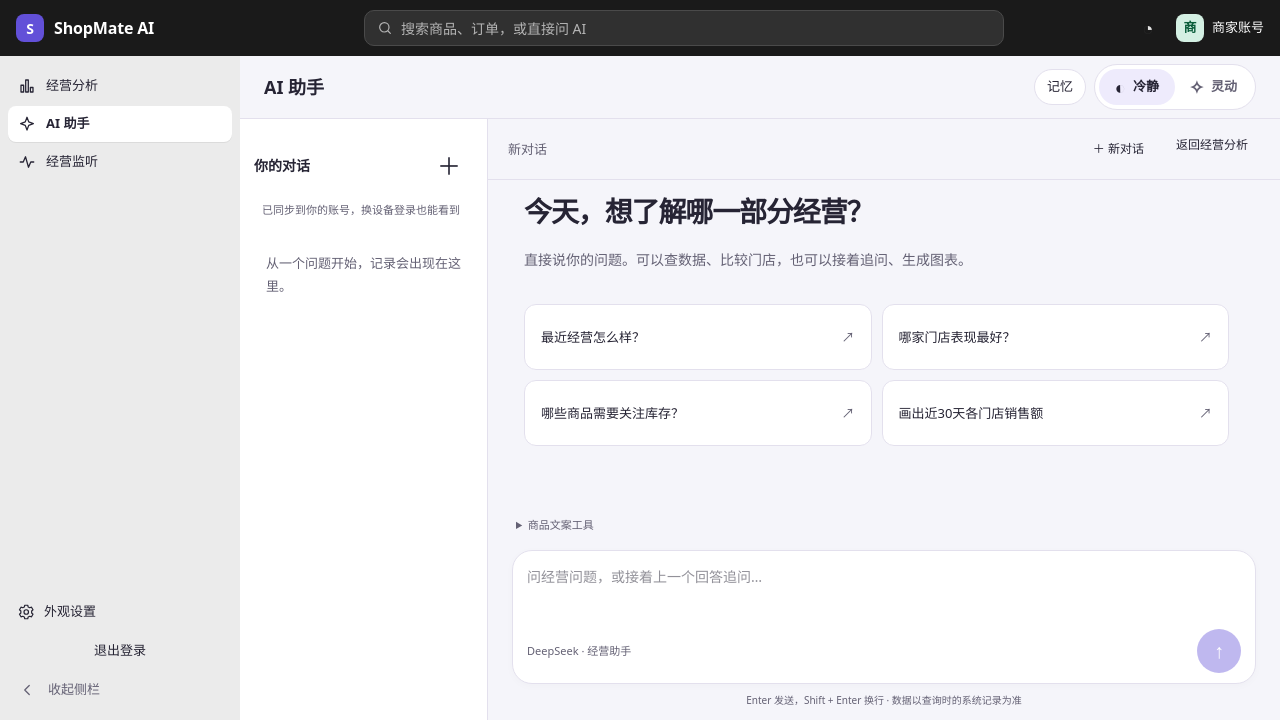
Scenario: 完整助手工作区 › 失败保留问题和商品 ID，不自动重试
(page scrolled)
Click the heading "商品文案工具": x=561, y=525 [528, 517, 594, 532]
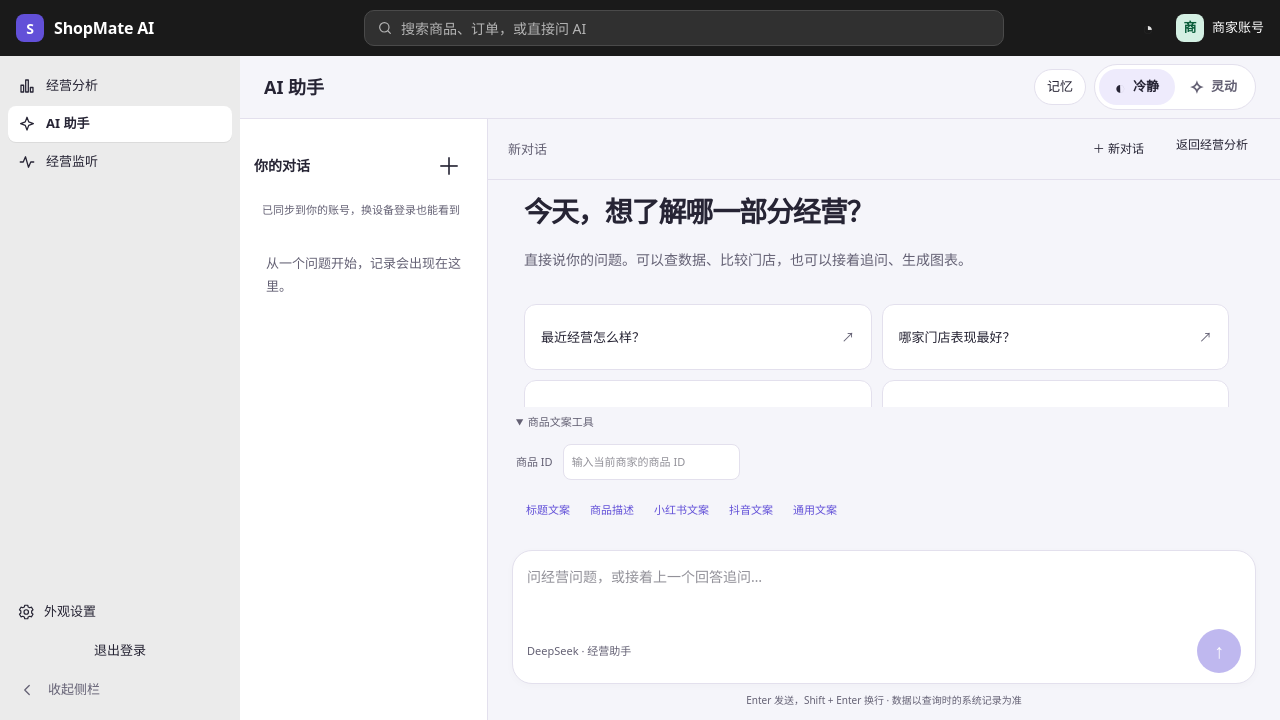
In the field labelled "商品 ID": x=651, y=462 [563, 444, 740, 480], type "p1"
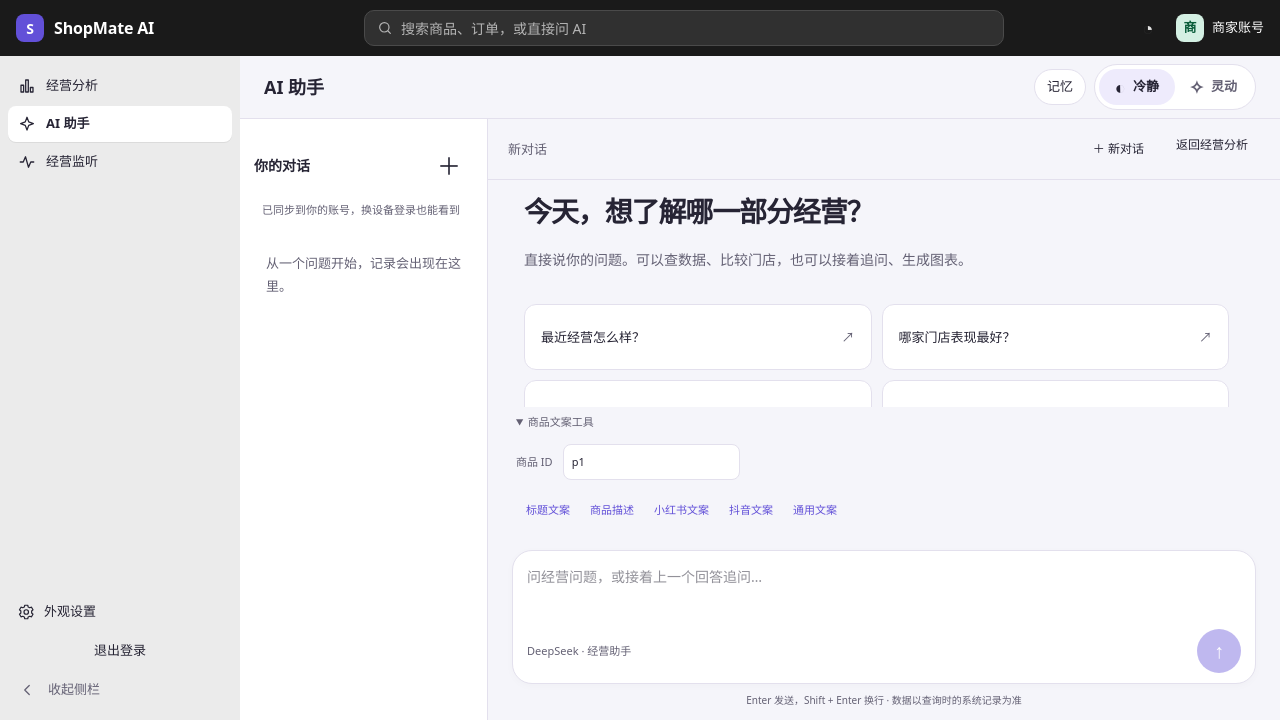
Click the button "标题文案": x=548, y=510 [516, 488, 580, 532]
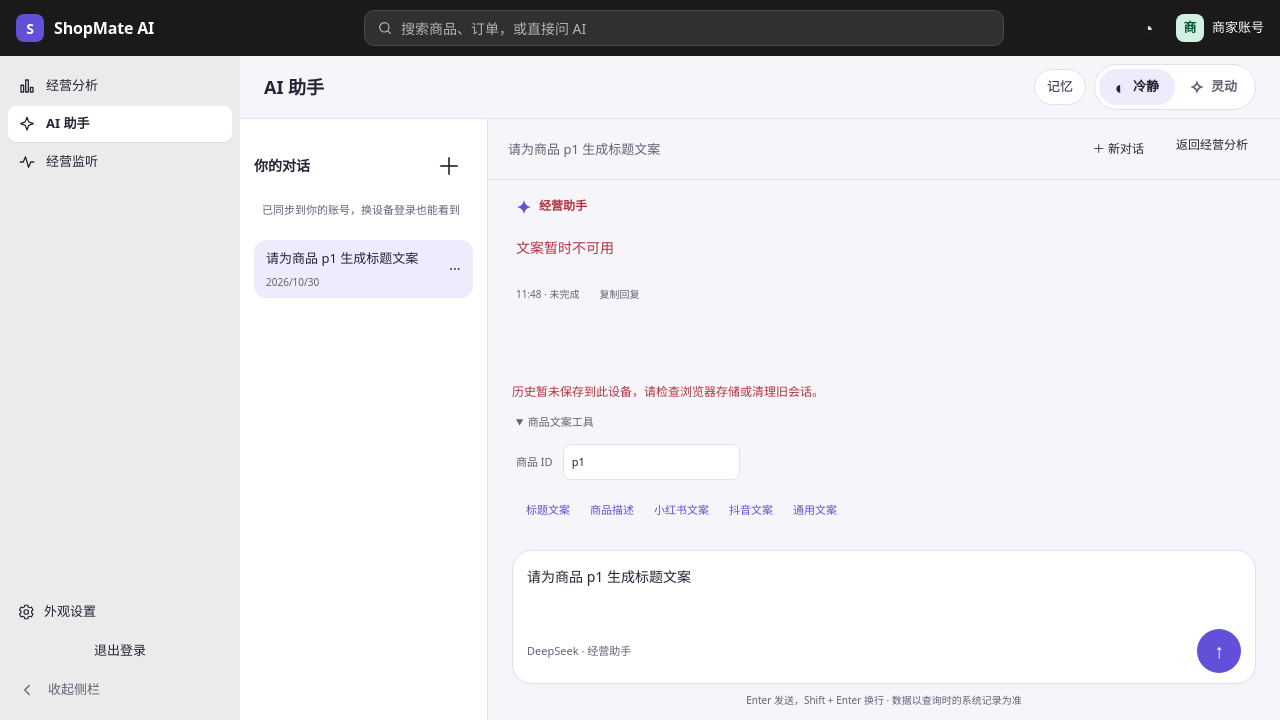
Expected: the text "文案暂时不可用" is shown, [516, 238, 614, 257]
Expected: the text box named "消息" holds "请为商品 p1 生成标题文案", [527, 565, 1241, 629]
